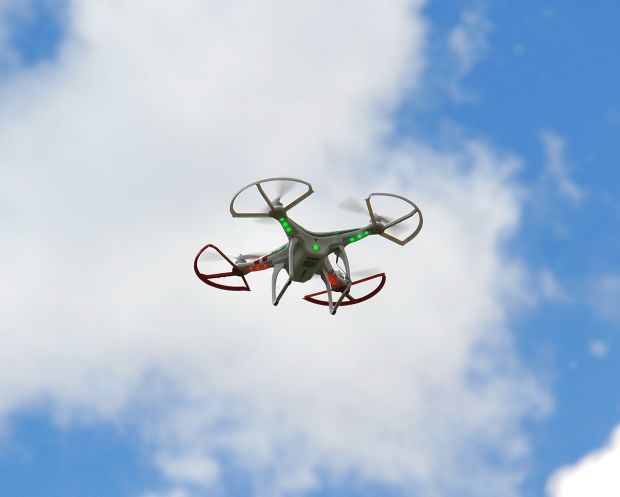drone: (191, 176, 427, 319)
